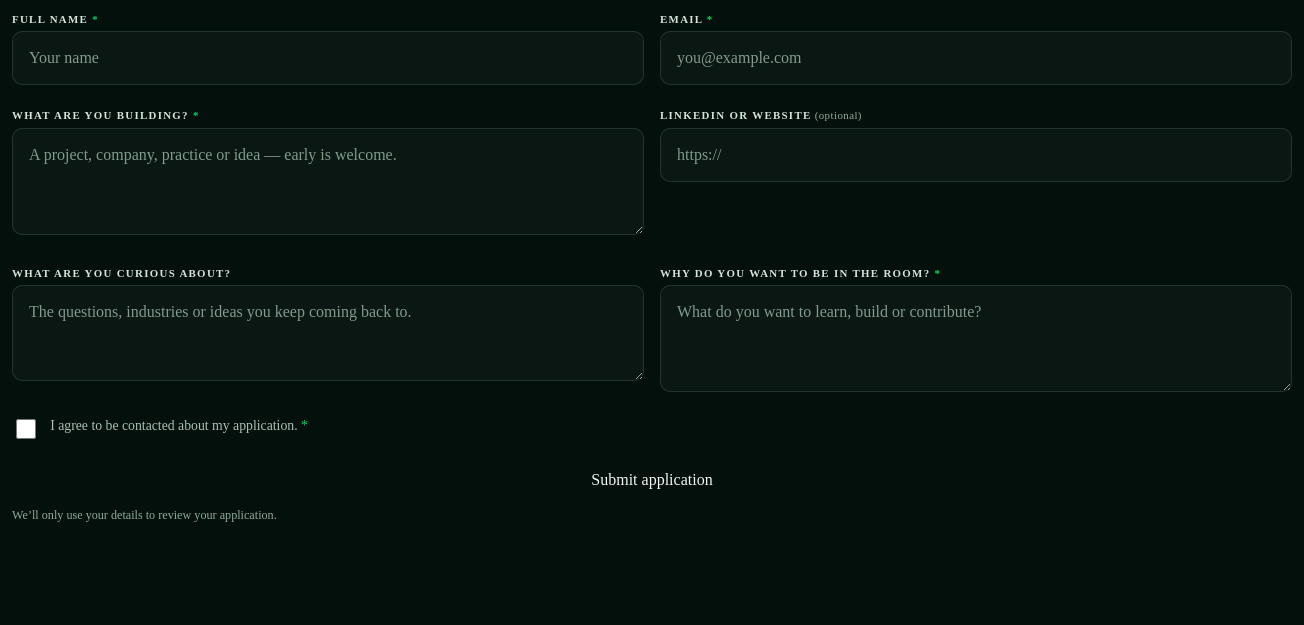
Scenario: ApplicationForm › shows the opening-soon message and contact email when delivery is not configured
In the field labelled "Full name *": (328, 58) [12,31,644,85], type "Ada Lovelace"
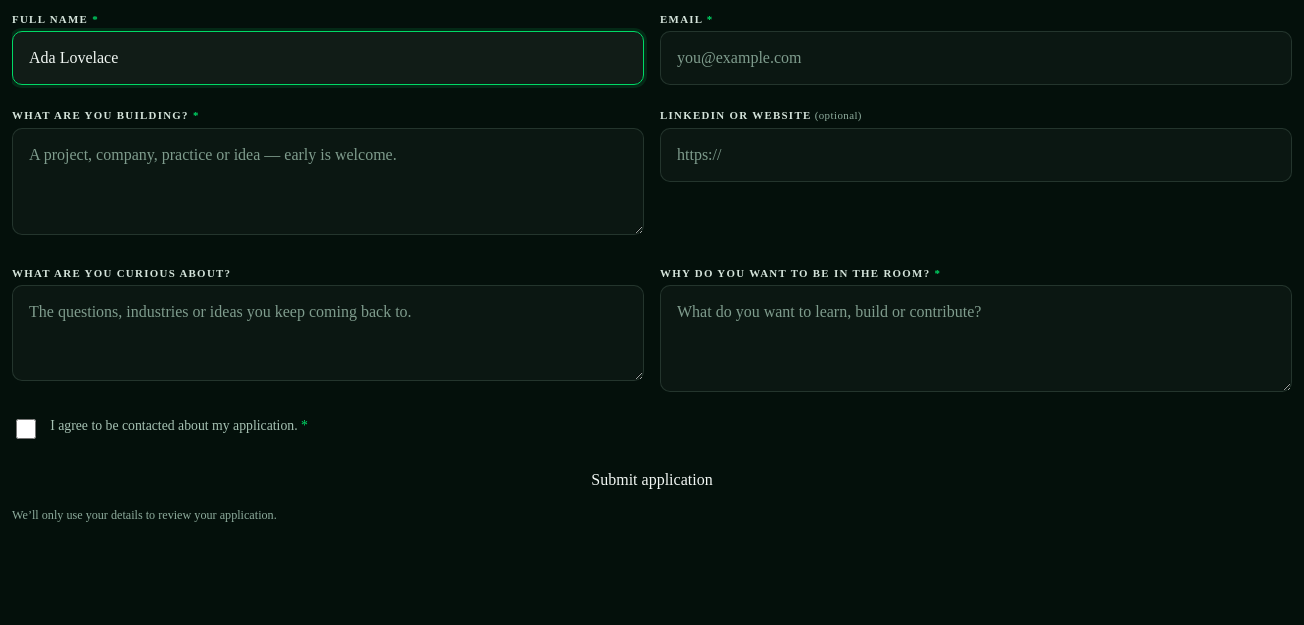
In the field labelled "Email *": (976, 58) [660,31,1292,85], type "ada@example.com"
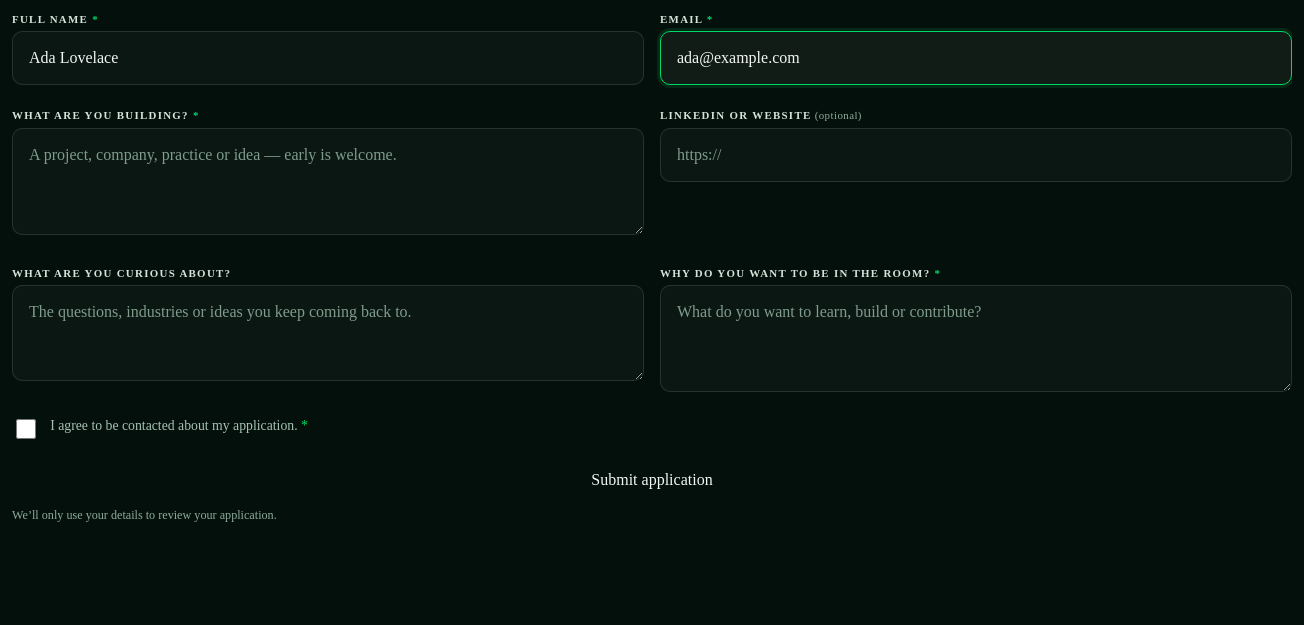
In the text box labelled "What are you building? *": (328, 181) [12,128,644,235], type "A small studio building useful tools."
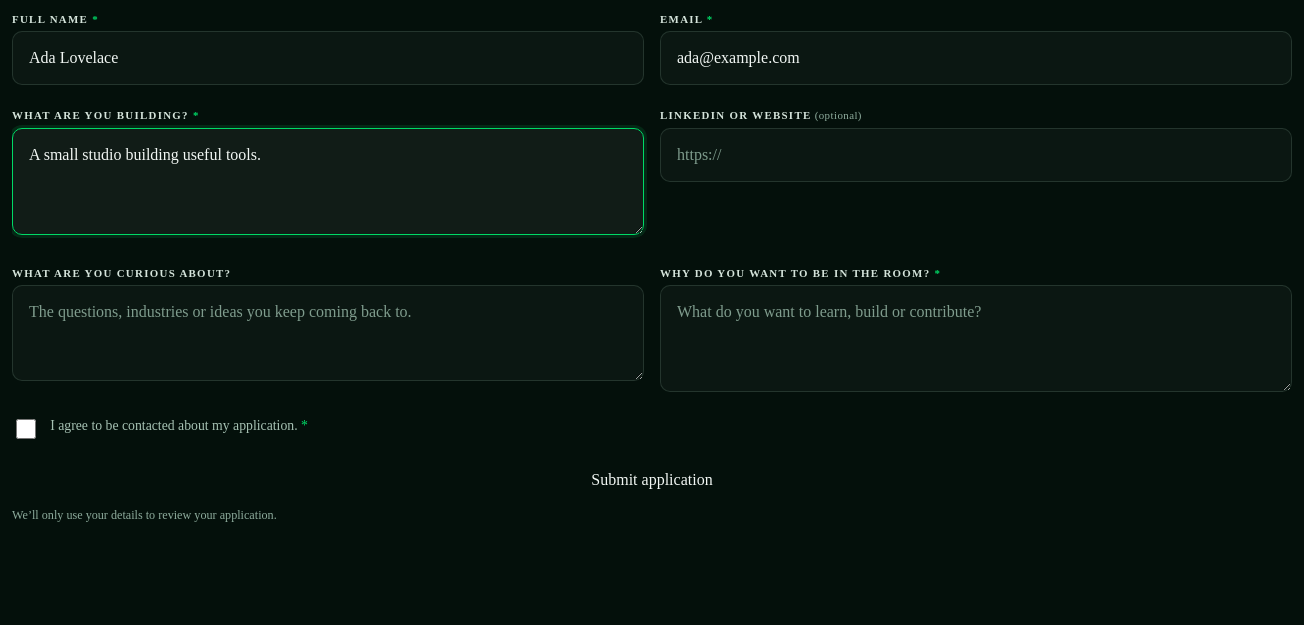
In the text box labelled "Why do you want to be in the room? *": (976, 339) [660,285,1292,392], type "I want to build alongside people who care about difficult, useful problems."
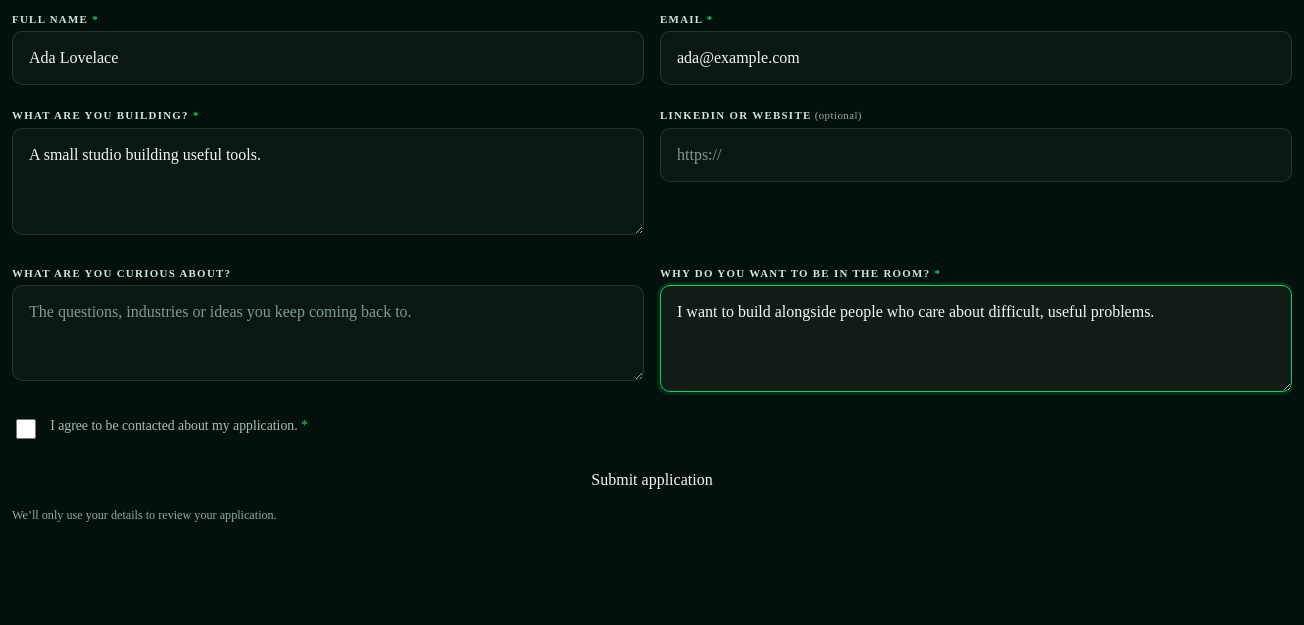
Click the checkbox labelled "I agree to be contacted about my application. *": (26, 429) [16,419,36,439]
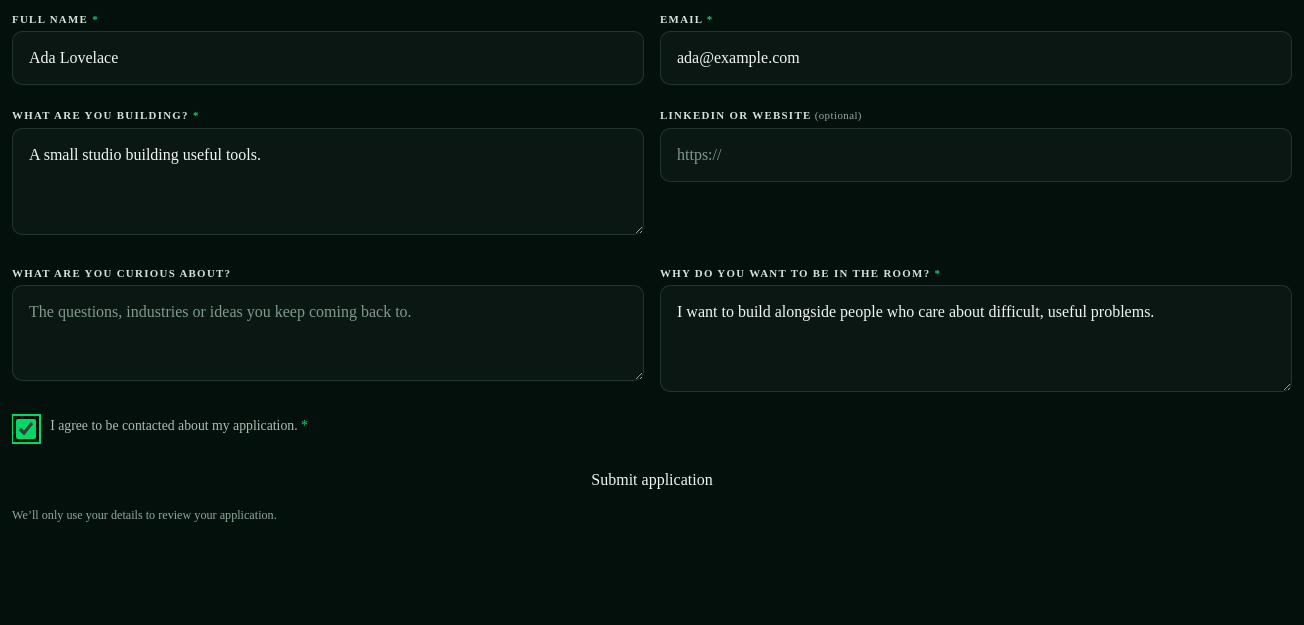
Click the button "Submit application": (652, 480) [12,466,1292,494]
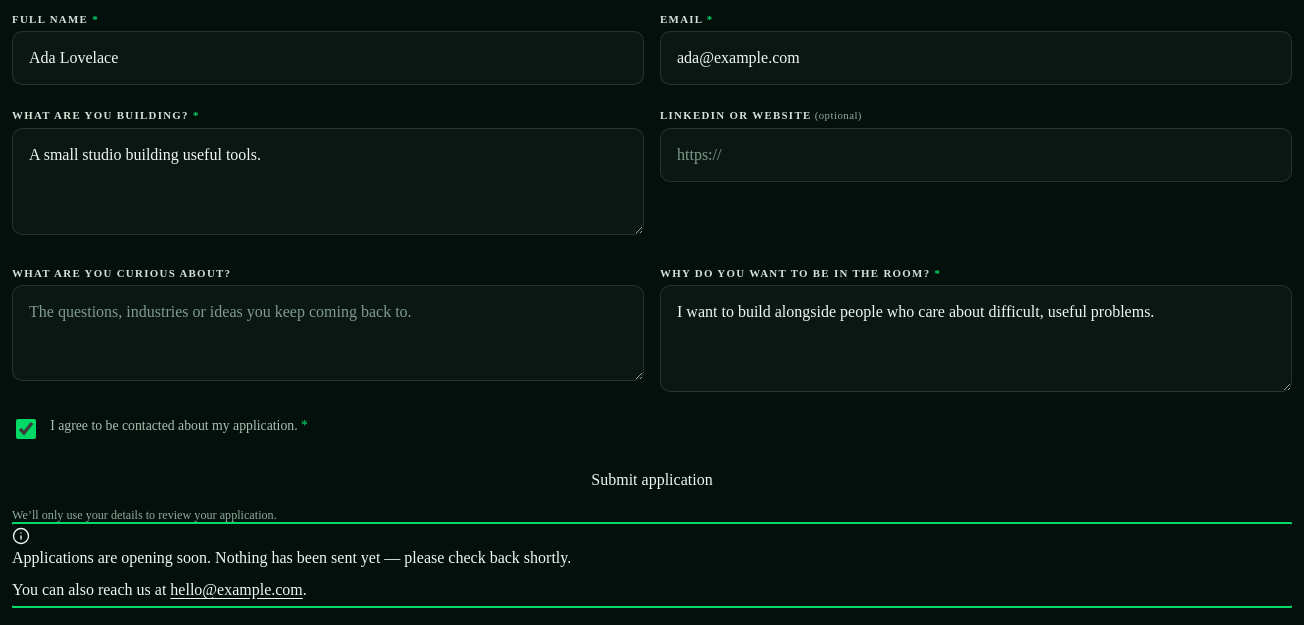
Expected: the message shows "Applications are opening soon.", [12,549,571,566]
